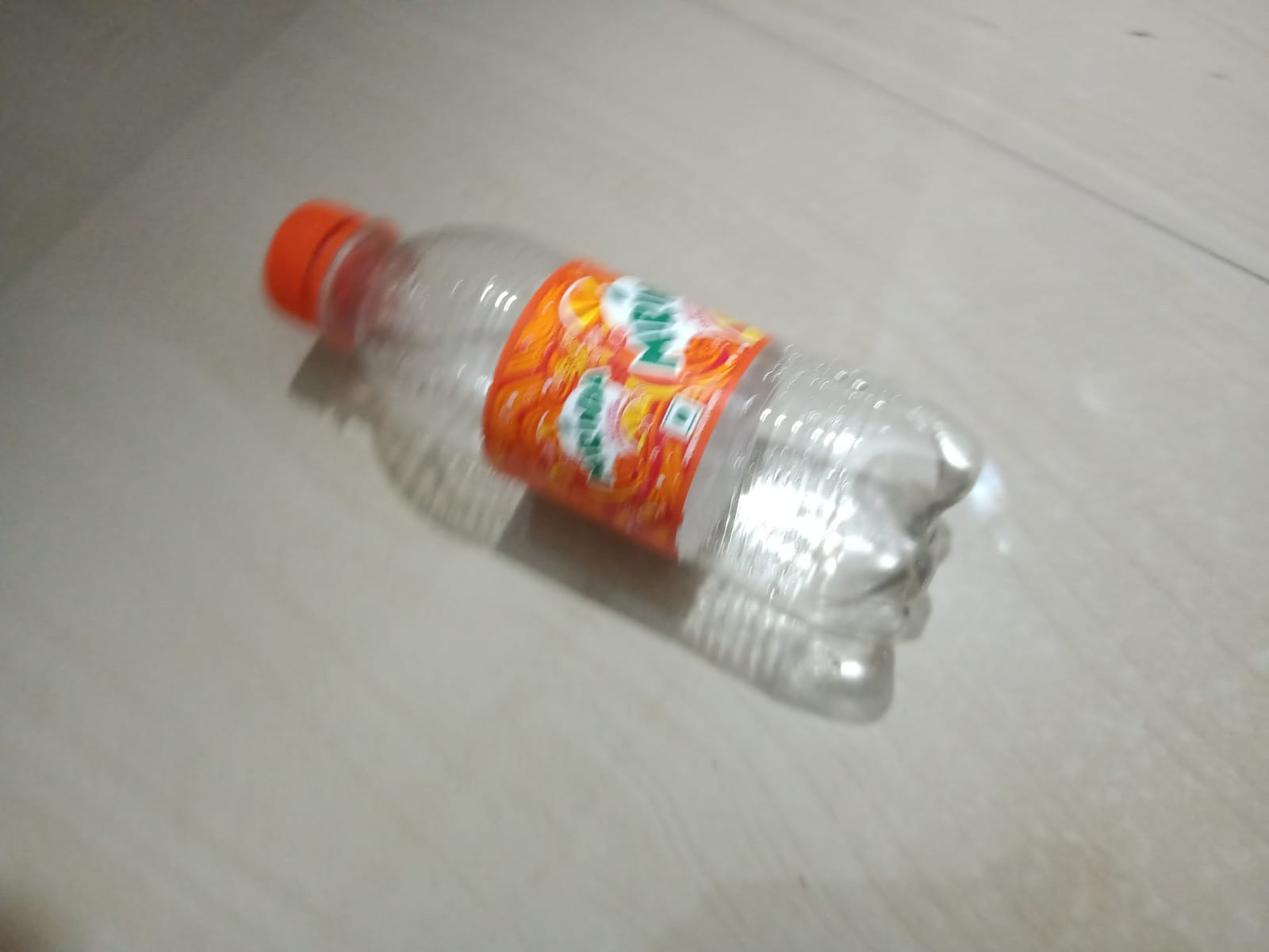plastic: (181, 179, 1269, 716)
